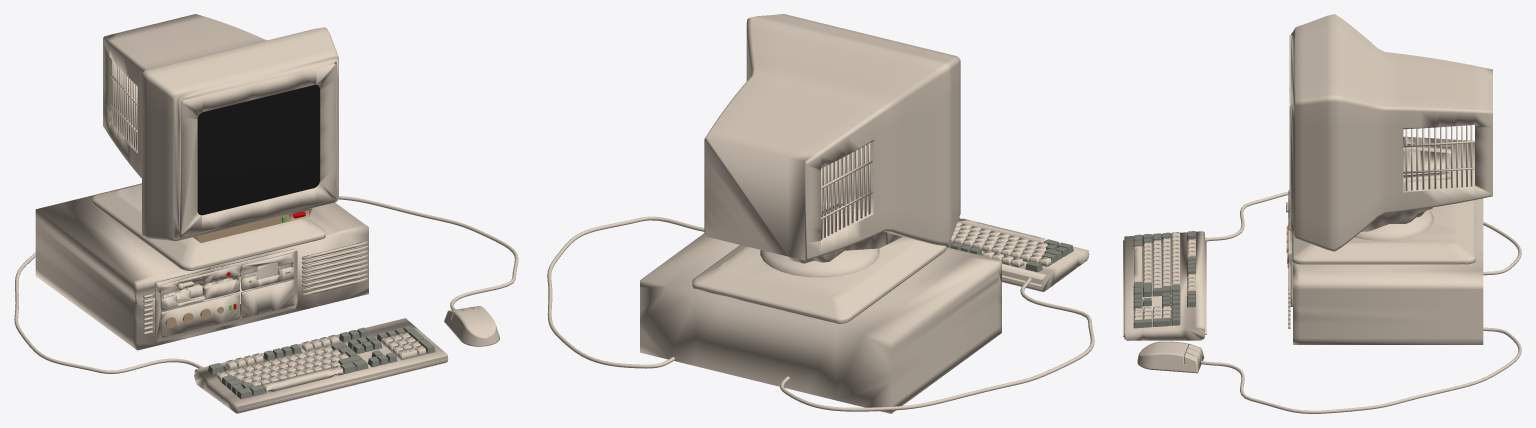
3 renders of one model, left to right at view 1: azimuth 30°, elevation 25°; view 2: azimuth 150°, elevation 25°; view 3: azimuth 270°, elevation 25°, orthographic. The views are drawn at different scales.
Parts seen in each view (by area): view 1: computer; view 2: computer; view 3: computer.
Part boxes in pixels (bbox=[...]): computer: bbox=[14, 14, 518, 413]; computer: bbox=[547, 14, 1094, 413]; computer: bbox=[1123, 14, 1521, 413].
Bounding box in the file's own units: 36.12 × 18.76 × 28.23.
